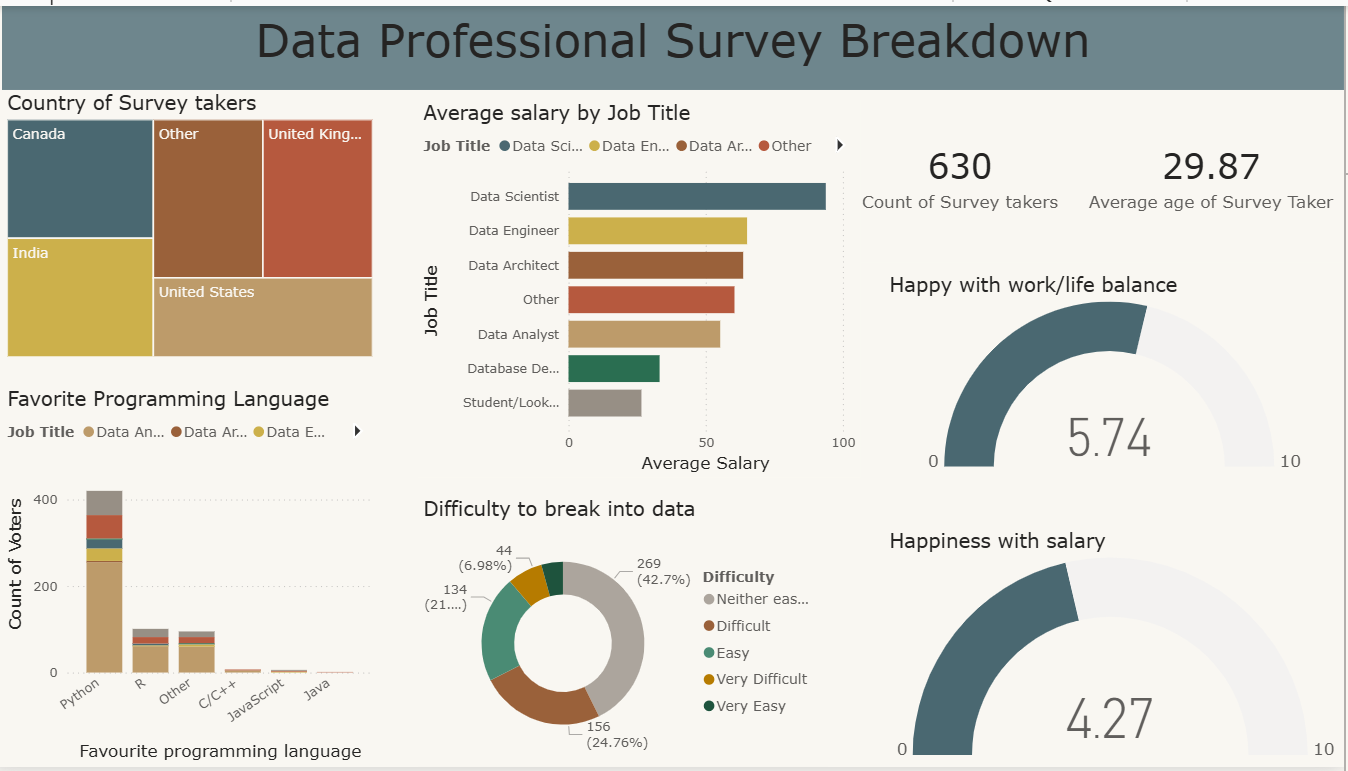

This screenshot's page, from the dashboard's own definition file:
{"tool":"powerbi","page":{"name":"Page 1","canvas":[1280,720],"ordinal":0},"visuals":[{"type":"textbox","box":[9.5,0,1270.5,79.5],"z":0},{"type":"textbox","box":[9.5,0,1270.5,79.5],"z":1000},{"type":"card","fields":{"Values":["CountNonNull(Data Professional Survey.Unique ID)"]},"box":[792.3,78.8,250,163.5],"z":2000},{"type":"card","fields":{"Values":["Avg(Data Professional Survey.Q10 - Current Age)"]},"box":[1028.8,78.8,251.9,163.5],"z":3000},{"type":"barChart","title":"Average salary by Job Title","fields":{"Category":["Data Professional Survey.Q1 - Which Title Best Fits your Current Role?.1"],"Y":["Avg(Data Professional Survey.Average salary)"],"Series":["Data Professional Survey.Q1 - Which Title Best Fits your Current Role?.1"]},"box":[403.8,88.5,419.2,357.7],"z":4000},{"type":"columnChart","title":"Favorite Programming Language","fields":{"Category":["Data Professional Survey.Q5 - Favorite Programming Language.1"],"Y":["CountNonNull(Data Professional Survey.Unique ID)"],"Series":["Data Professional Survey.Q1 - Which Title Best Fits your Current Role?.1"]},"box":[9.6,359.6,355.8,359.6],"z":4001},{"type":"treemap","title":"Country of Survey takers","fields":{"Group":["Data Professional Survey.Q11 - Which Country do you live in?.1"],"Values":["Count(Data Professional Survey.Q11 - Which Country do you live in?.1)"]},"box":[9.6,78.8,355.8,257.7],"z":4002},{"type":"gauge","title":"Happy with work/life balance","fields":{"Y":["Avg(Data Professional Survey.Q6 - How Happy are you in your Current Position with the following? (Work/Life Balance))"],"MinValue":["Min(Data Professional Survey.Q6 - How Happy are you in your Current Position with the following? (Work/Life Balance))1"],"MaxValue":["Max(Data Professional Survey.Q6 - How Happy are you in your Current Position with the following? (Work/Life Balance))2"]},"box":[844.2,251.9,436.5,194.2],"z":4003},{"type":"gauge","title":"Happiness with salary","fields":{"Y":["Avg(Data Professional Survey.Q6 - How Happy are you in your Current Position with the following? (Salary))"],"MinValue":["Min(Data Professional Survey.Q6 - How Happy are you in your Current Position with the following? (Salary))"],"MaxValue":["Max(Data Professional Survey.Q6 - How Happy are you in your Current Position with the following? (Salary))1"]},"box":[844.2,494.2,438.5,225],"z":4004},{"type":"donutChart","title":"Difficulty to break into data","fields":{"Category":["Data Professional Survey.Q7 - How difficult was it for you to break into Data?"],"Y":["CountNonNull(Data Professional Survey.Q7 - How difficult was it for you to break into Data?)"]},"box":[403.8,463.5,388.5,255.8],"z":4005}]}

Visuals, with their boxes in screenshot pixels (x1, y1, x2, y2), scaled from the page's 1280x720 canvas onto the 1348x771 screenshot:
textbox: 10:0:1347:85
textbox: 10:0:1347:85
card - CountNonNull(Data Professional Survey.Unique ID): 834:84:1098:259
card - Avg(Data Professional Survey.Q10 - Current Age): 1083:84:1347:259
"Average salary by Job Title" barChart: 425:95:867:478
"Favorite Programming Language" columnChart: 10:385:385:770
"Country of Survey takers" treemap: 10:84:385:360
"Happy with work/life balance" gauge: 889:270:1347:478
"Happiness with salary" gauge: 889:529:1347:770
"Difficulty to break into data" donutChart: 425:496:834:770
